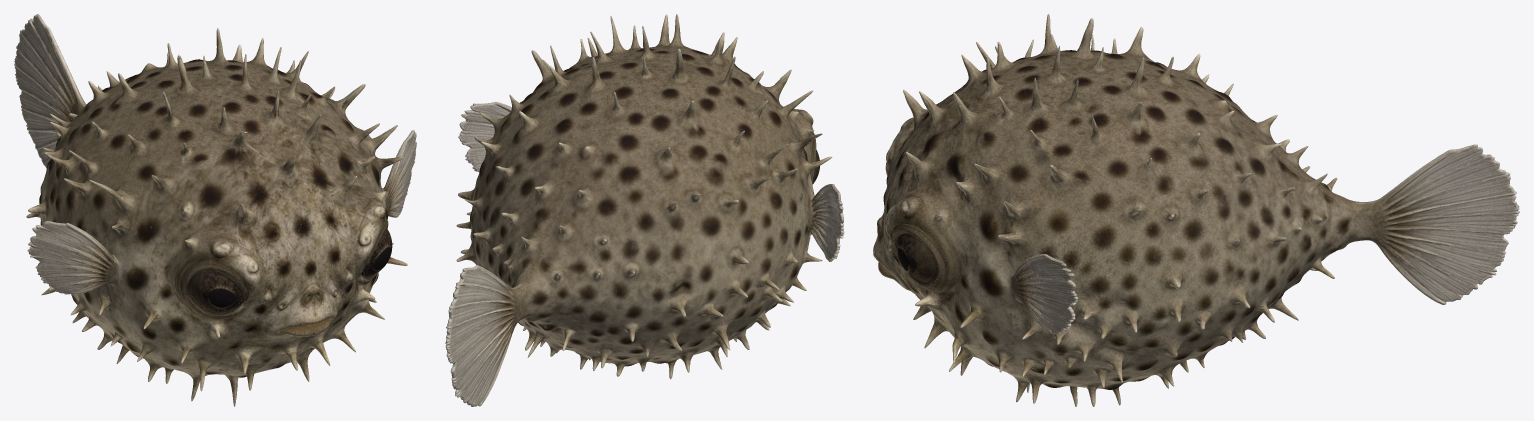
The model's file is 01-egg.glb.
3 renders of one model, left to right at view 1: azimuth 30°, elevation 25°; view 2: azimuth 150°, elevation 25°; view 3: azimuth 270°, elevation 25°, orthographic. The views are drawn at different scales.
Bounding box in the file's own units: 1.42 × 1.17 × 1.9.
Materials: 1 (1 with a texture image).
